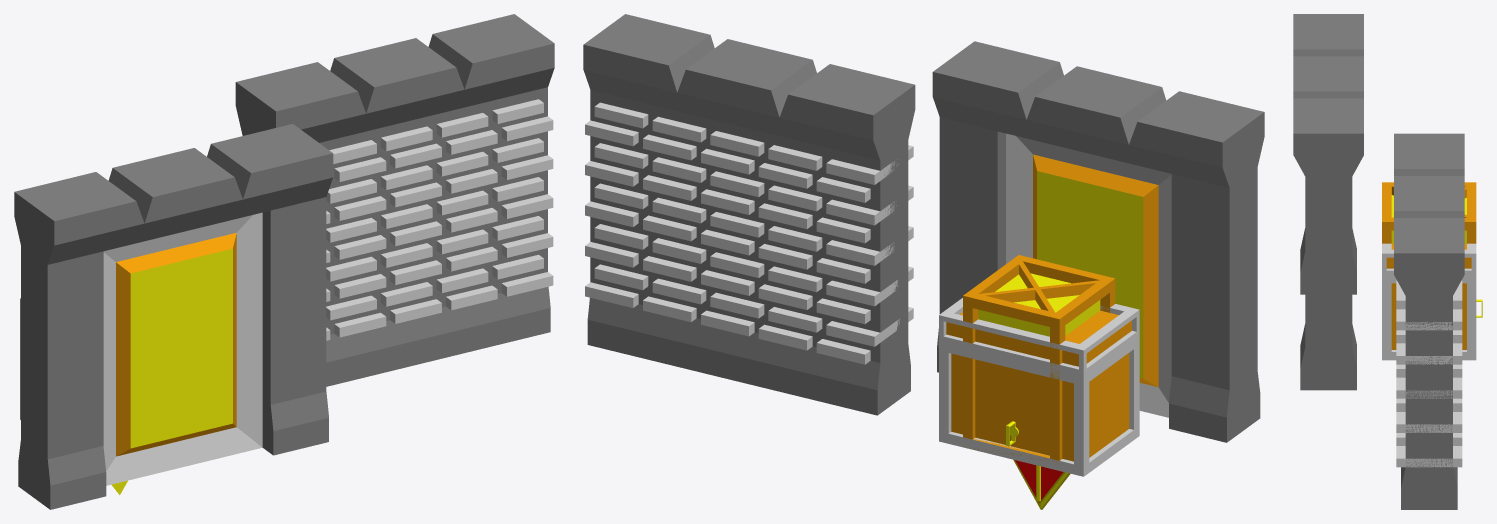
The model's file is Dungeon Explorer Model Recreation Project.fbx.
3 renders of one model, left to right at view 1: azimuth 30°, elevation 25°; view 2: azimuth 150°, elevation 25°; view 3: azimuth 270°, elevation 25°, orthographic. The views are drawn at different scales.
Parts seen in each view (by area): view 1: Door Wall, Wall, Door, Bricks; view 2: Wall, Door Wall, Bricks, Door, Chest, Box, Chest Top, Shield, Box.002; view 3: Door Wall, Wall, Bricks, Chest, Box, Chest Top.
Part boxes in pixels (<box>): Door Wall: <box>14,124,333,509</box>; Wall: <box>235,14,554,386</box>; Door: <box>103,212,262,485</box>; Bricks: <box>326,99,553,340</box>; Wall: <box>583,14,915,415</box>; Door Wall: <box>932,41,1264,442</box>; Bricks: <box>585,102,913,364</box>; Door: <box>1006,133,1171,417</box>; Chest: <box>939,335,1139,476</box>; Box: <box>963,255,1115,466</box>; Chest Top: <box>939,298,1139,375</box>; Shield: <box>1013,459,1070,509</box>; Box.002: <box>979,280,1100,302</box>; Door Wall: <box>1293,14,1363,390</box>; Wall: <box>1394,133,1464,509</box>; Bricks: <box>1396,279,1462,467</box>; Chest: <box>1382,275,1476,360</box>; Box: <box>1382,182,1476,243</box>; Chest Top: <box>1382,243,1476,274</box>.
Bounding box in the file's own units: 1200 × 745 × 401.
Materials: 1 (1 with a texture image).
